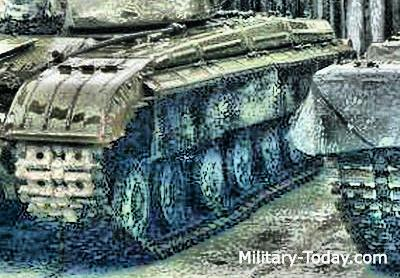tanks: (1, 1, 351, 253), (289, 32, 400, 272)
